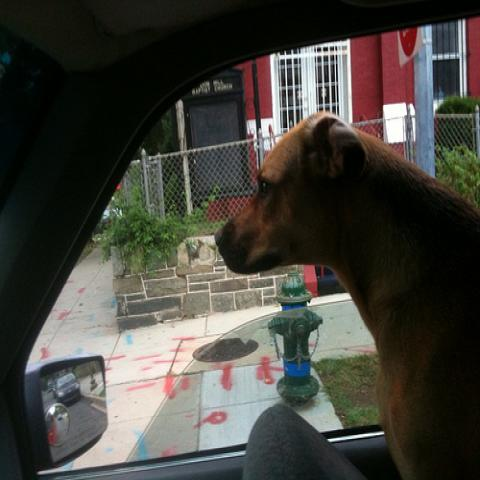car: (0, 3, 479, 479)
